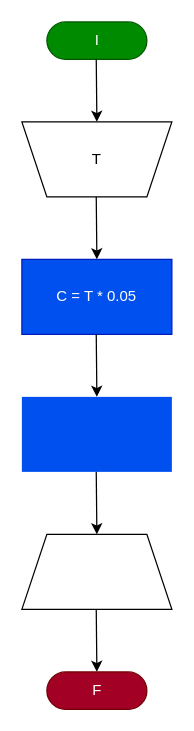
The diagram is 194 pixels wide and 731 high, and some of its shapes have lost their labels. Here are the shapes that lost their labels. From the top down, the centre of each, then its label:
At point 96,433: "SF = C + 1500".
At point 96,571: "SF".
